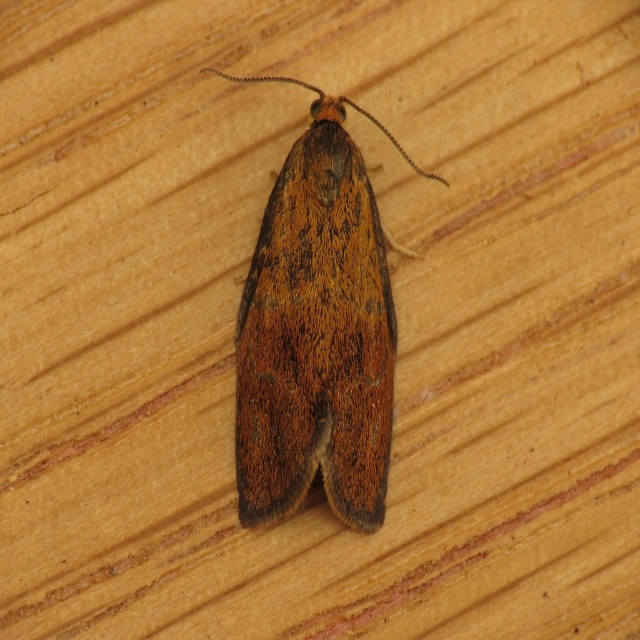Moths and butterflies: (198, 64, 452, 535)
